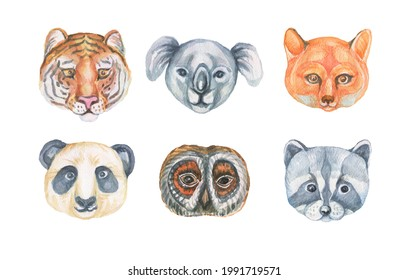animal: (139, 127, 267, 232), (146, 23, 264, 128), (273, 29, 390, 131), (25, 130, 140, 231), (33, 20, 142, 122), (273, 139, 386, 224)
